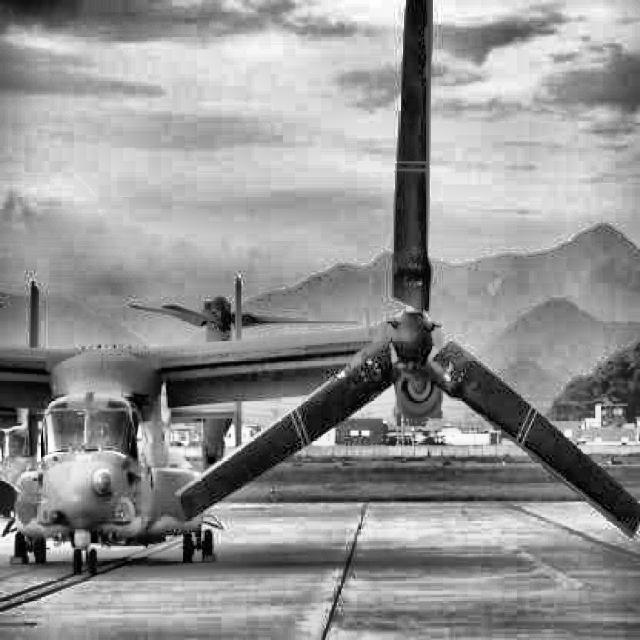V22: (0, 158, 545, 576), (0, 296, 358, 485)
